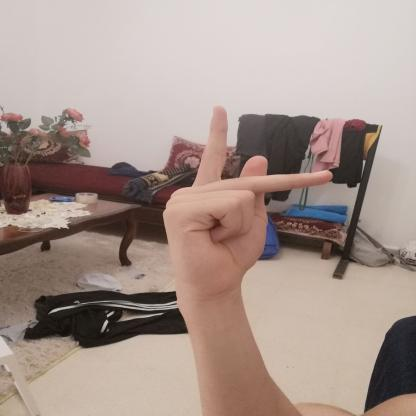DHAA: (147, 97, 345, 305)
